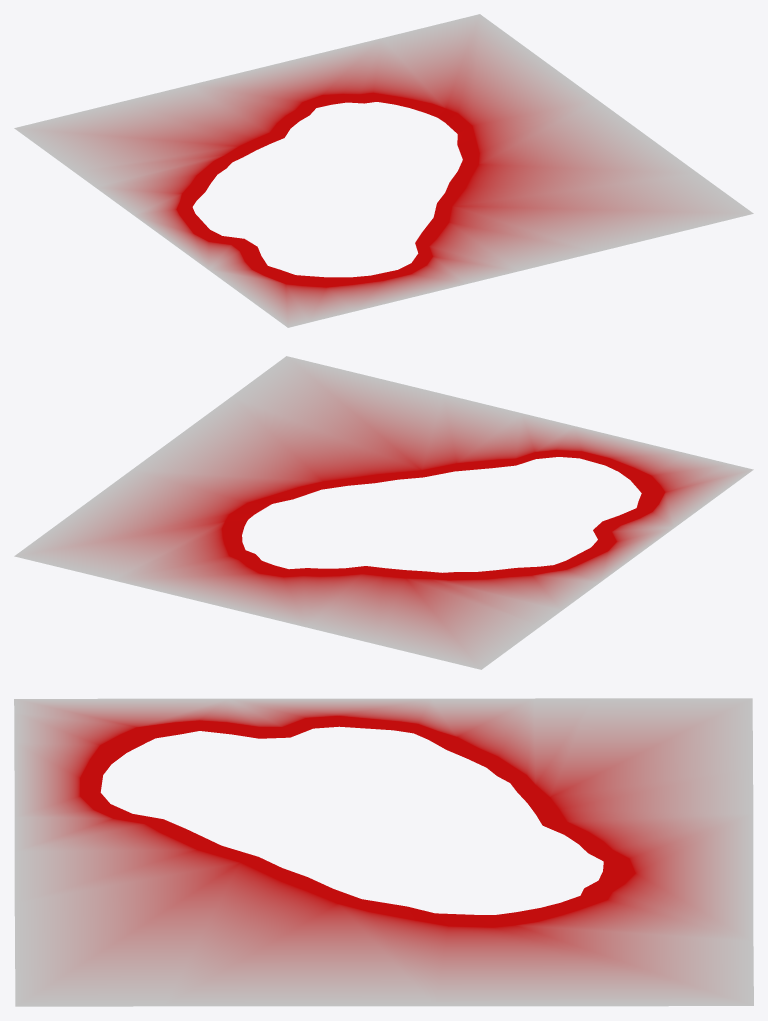
Rendered from Map_20008_water.FBX.
3 renders of one model, top to bottom at view 1: azimuth 30°, elevation 25°; view 2: azimuth 150°, elevation 25°; view 3: azimuth 270°, elevation 25°, orthographic. The views are drawn at different scales.
Visible parts, largest first — view 1: Map_20008_water; view 2: Map_20008_water; view 3: Map_20008_water.
Part boxes in pixels (<box>): Map_20008_water: <box>14,14,753,327</box>; Map_20008_water: <box>14,356,753,669</box>; Map_20008_water: <box>14,698,753,1006</box>.
Bounding box in the file's own units: 416 × 422 × 0.2054.
